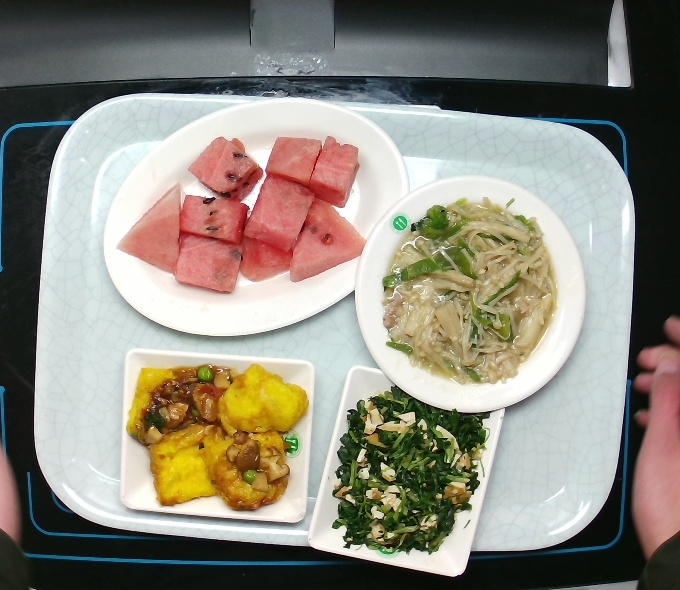wcq-CuiPiDouFu: (121, 359, 318, 515)
wcq-JinZhenGu: (371, 190, 567, 396)
wcq-MaLanTouChaoDouGan: (325, 380, 496, 557)
wcq-XiGua: (109, 126, 378, 297)
